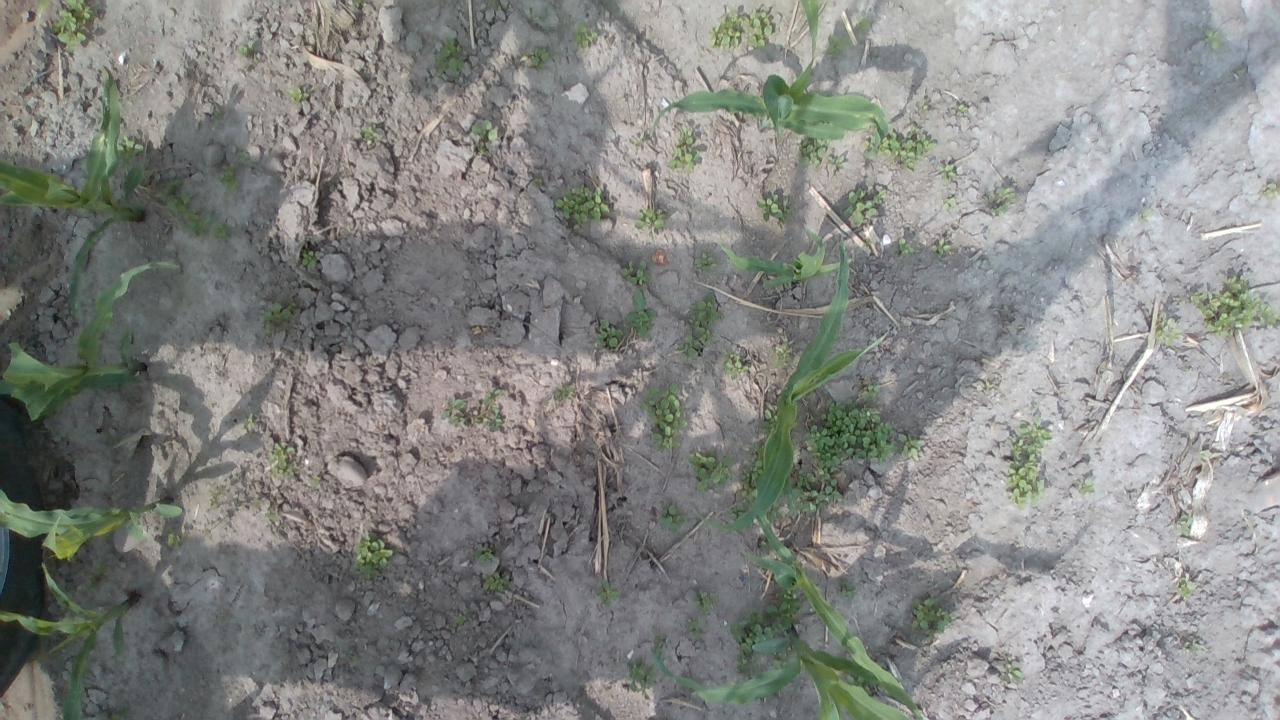Maize: (700, 238, 889, 536), (736, 490, 928, 720), (0, 63, 145, 322), (644, 2, 888, 144), (0, 260, 182, 423), (651, 622, 923, 720), (0, 561, 136, 720), (0, 486, 183, 562), (721, 226, 852, 288)
Weeds: (801, 398, 896, 473), (1189, 270, 1280, 340), (729, 588, 798, 678), (156, 178, 233, 241), (1006, 415, 1054, 510), (861, 126, 936, 173), (642, 384, 688, 453), (679, 294, 720, 368), (710, 7, 774, 50), (784, 470, 843, 513), (555, 184, 611, 228), (685, 449, 737, 494), (50, 0, 94, 51), (351, 530, 394, 579), (909, 594, 953, 633), (842, 187, 886, 226), (626, 287, 656, 339), (432, 34, 466, 77), (671, 127, 702, 174), (473, 388, 505, 432), (262, 301, 296, 337), (115, 130, 144, 172), (756, 192, 794, 224), (658, 502, 691, 537), (270, 441, 298, 480), (798, 138, 832, 170), (438, 396, 469, 431), (725, 488, 758, 520), (80, 560, 111, 594), (742, 441, 764, 488), (1155, 314, 1185, 348), (627, 658, 656, 692), (596, 317, 625, 349), (895, 430, 925, 460), (472, 120, 498, 154), (596, 579, 625, 608), (989, 187, 1017, 216), (572, 19, 599, 48), (621, 259, 651, 285), (636, 206, 668, 230), (722, 351, 748, 379), (695, 590, 720, 619), (768, 338, 792, 368), (826, 32, 851, 58), (236, 38, 260, 65), (758, 402, 778, 433), (222, 161, 240, 194), (481, 572, 507, 594), (696, 250, 719, 274), (529, 47, 551, 72), (358, 126, 384, 146), (286, 84, 312, 104), (1176, 576, 1196, 598), (686, 619, 706, 641), (859, 384, 882, 403), (1204, 28, 1222, 51), (472, 546, 497, 562), (854, 14, 874, 34), (828, 154, 848, 174), (931, 238, 952, 257), (165, 526, 183, 548), (838, 580, 858, 599), (936, 163, 956, 182), (1078, 477, 1096, 498), (451, 608, 473, 625), (553, 382, 575, 399), (1006, 662, 1024, 682), (652, 632, 666, 657), (236, 149, 256, 166), (1176, 516, 1192, 537), (240, 413, 258, 430), (301, 251, 318, 268), (1263, 182, 1279, 200), (898, 238, 914, 256), (528, 8, 544, 25), (1138, 206, 1153, 224), (1182, 639, 1201, 653), (631, 134, 648, 148), (942, 194, 956, 210), (531, 176, 544, 190), (982, 378, 994, 392), (1198, 450, 1212, 461), (214, 110, 227, 121), (263, 510, 276, 520), (35, 0, 49, 9), (917, 102, 929, 112), (166, 376, 177, 386), (958, 103, 968, 112)
